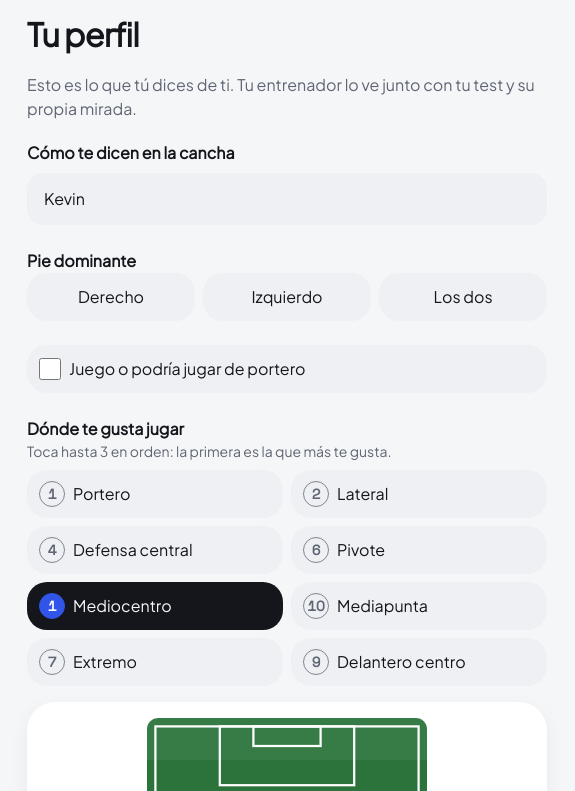
it: ProfilePage › no deja guardar un nombre vacío y lleva el foco al campo
Clear the field labelled "Cómo te dicen en la cancha" at (287, 199), box [27,173,547,225]
(page scrolled)
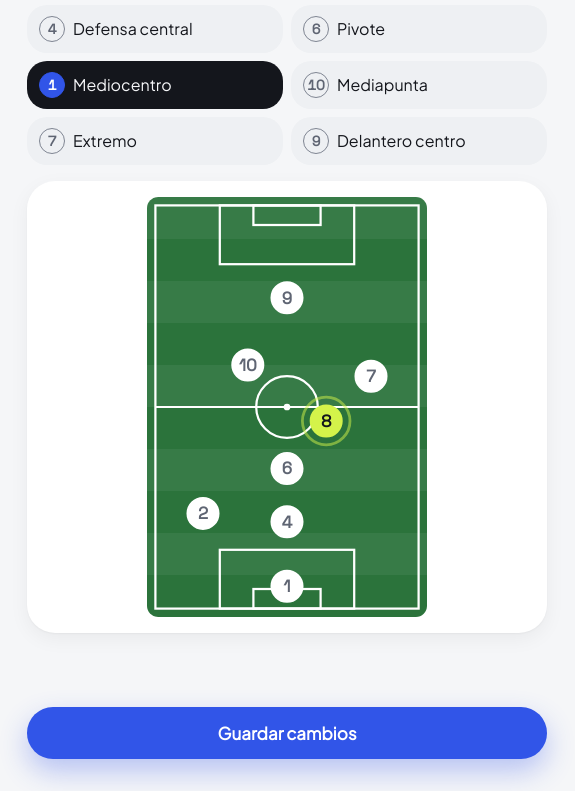
Click the button "Guardar cambios".
click(287, 733)  # box [27,707,547,759]
(page scrolled)
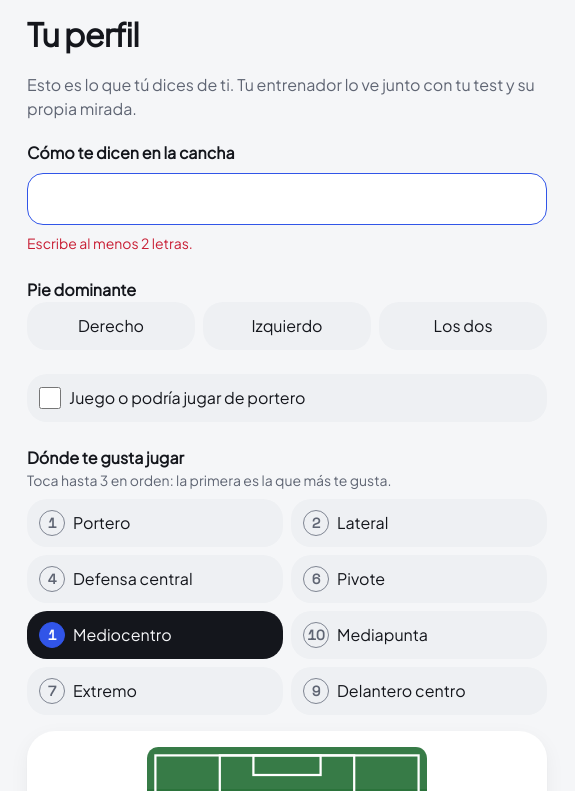
Expected: the text "Escribe al menos 2 letras." is shown, [27,234,193,252]
